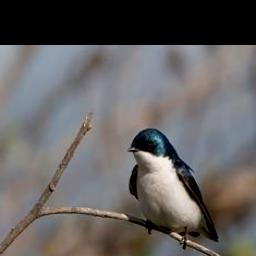Swallow: (129, 127, 220, 251)
